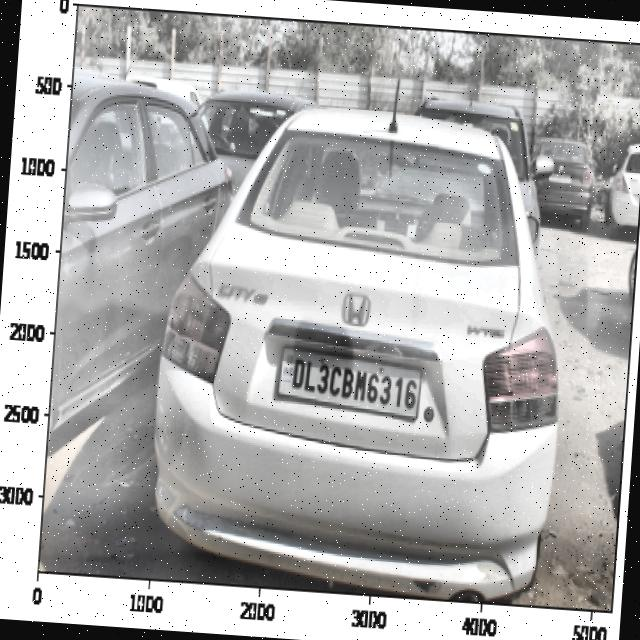license_plate: (284, 351, 424, 414)
